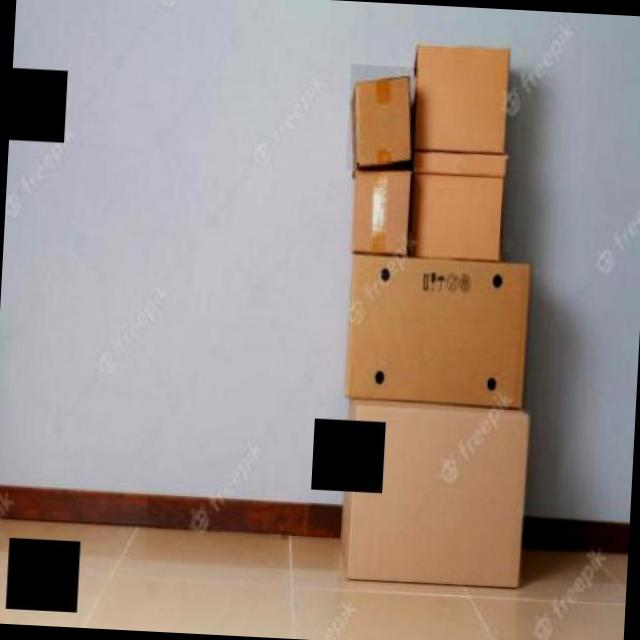box: (333, 398, 532, 589), (348, 253, 534, 414), (404, 31, 522, 158), (408, 154, 515, 262), (346, 64, 418, 174), (348, 168, 422, 258)
